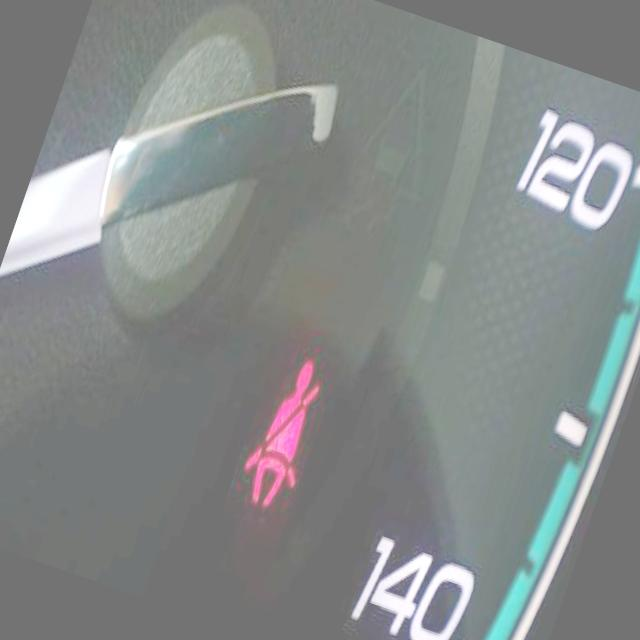kontrolka: (212, 312, 358, 544)
